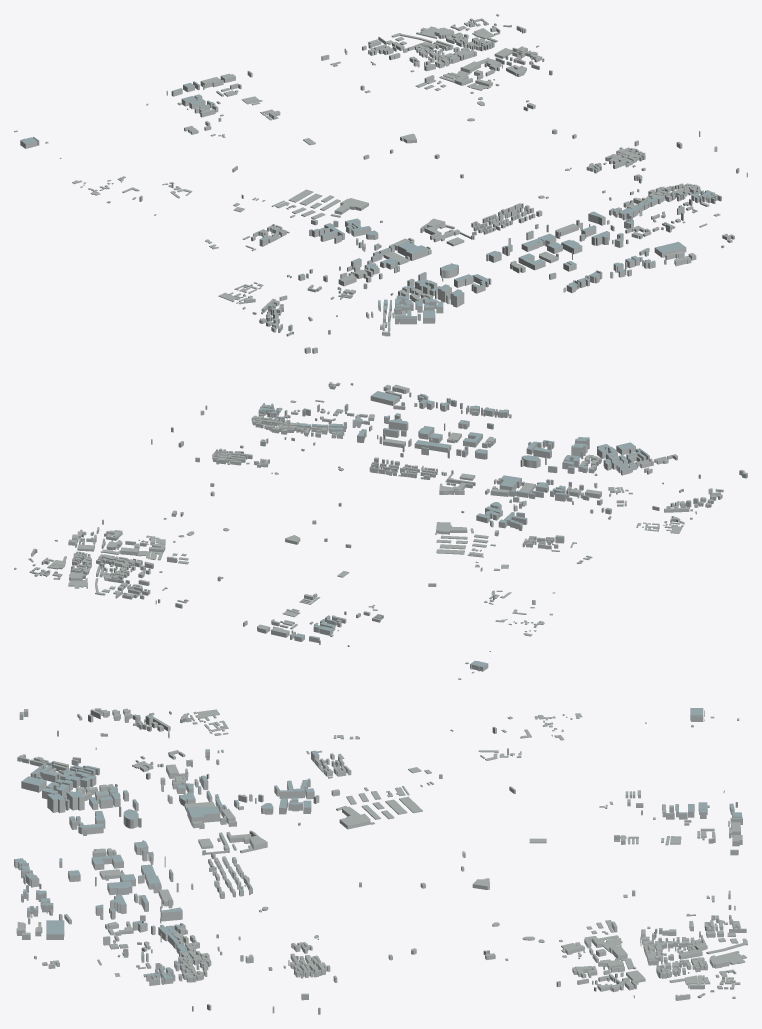
File: far.glb
3 views of the same model, one above another, from view 1: azimuth 30°, elevation 25°; view 2: azimuth 150°, elevation 25°; view 3: azimuth 270°, elevation 25° (orthographic). The views are drawn at different scales.
Size of the model in its own units: 2101 by 41.6 by 2138.
